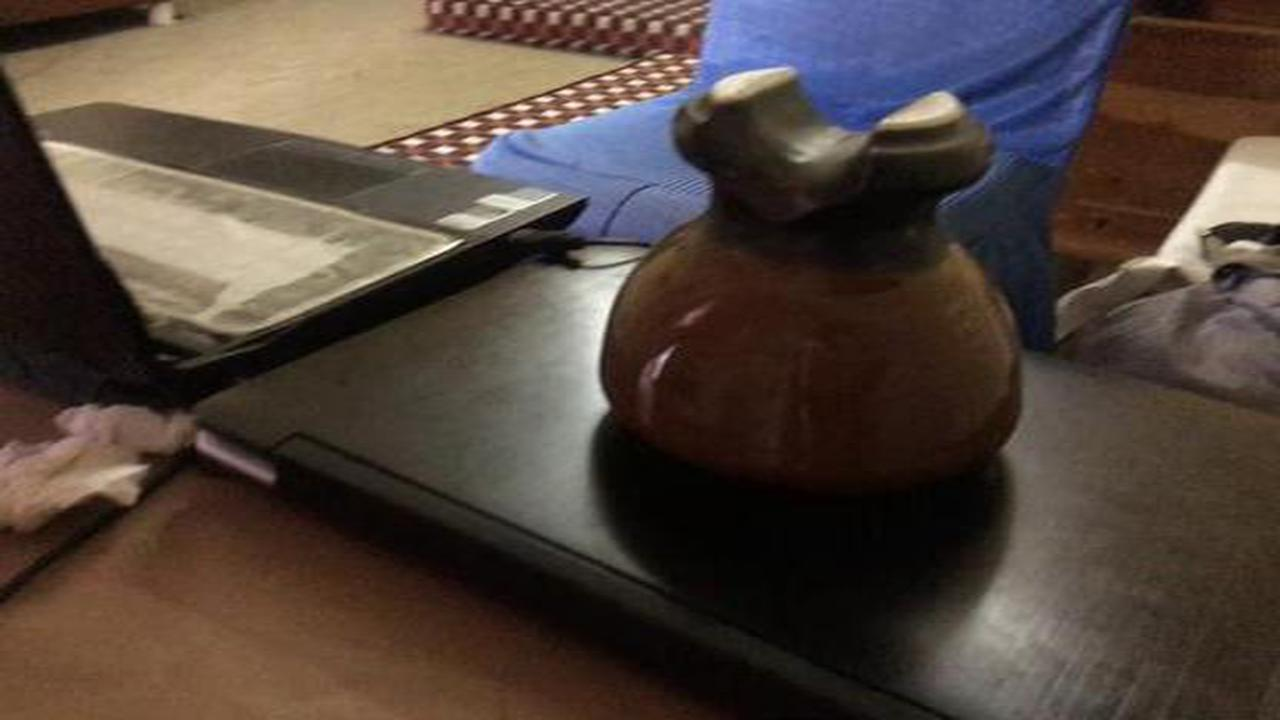insulator_pin: (588, 56, 1044, 523)
